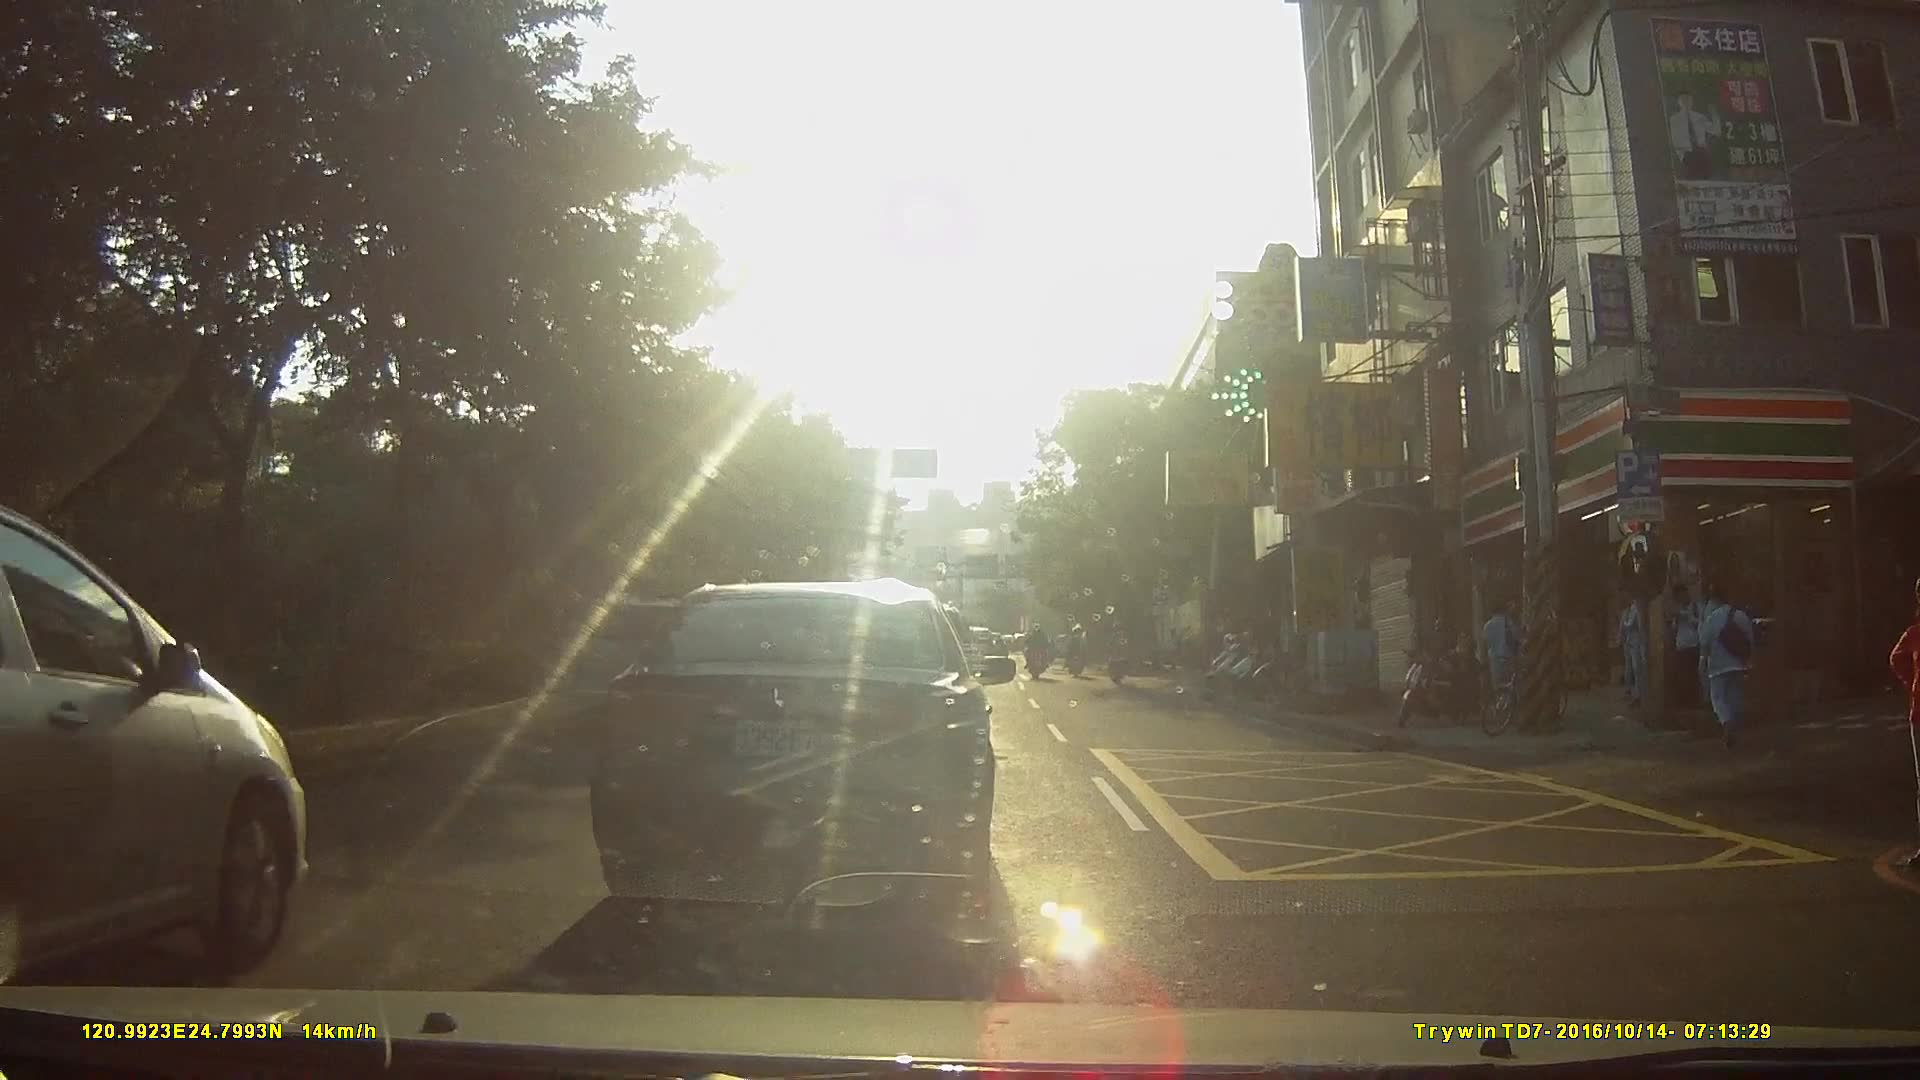pedestrian: (1691, 584, 1767, 752), (1896, 567, 1920, 854), (1475, 600, 1527, 714), (1672, 570, 1709, 710), (1618, 583, 1655, 708)
rider: (1022, 621, 1053, 681), (1063, 621, 1093, 682), (1108, 621, 1133, 688)
vehicle: (0, 487, 381, 1017), (570, 572, 1021, 935)
